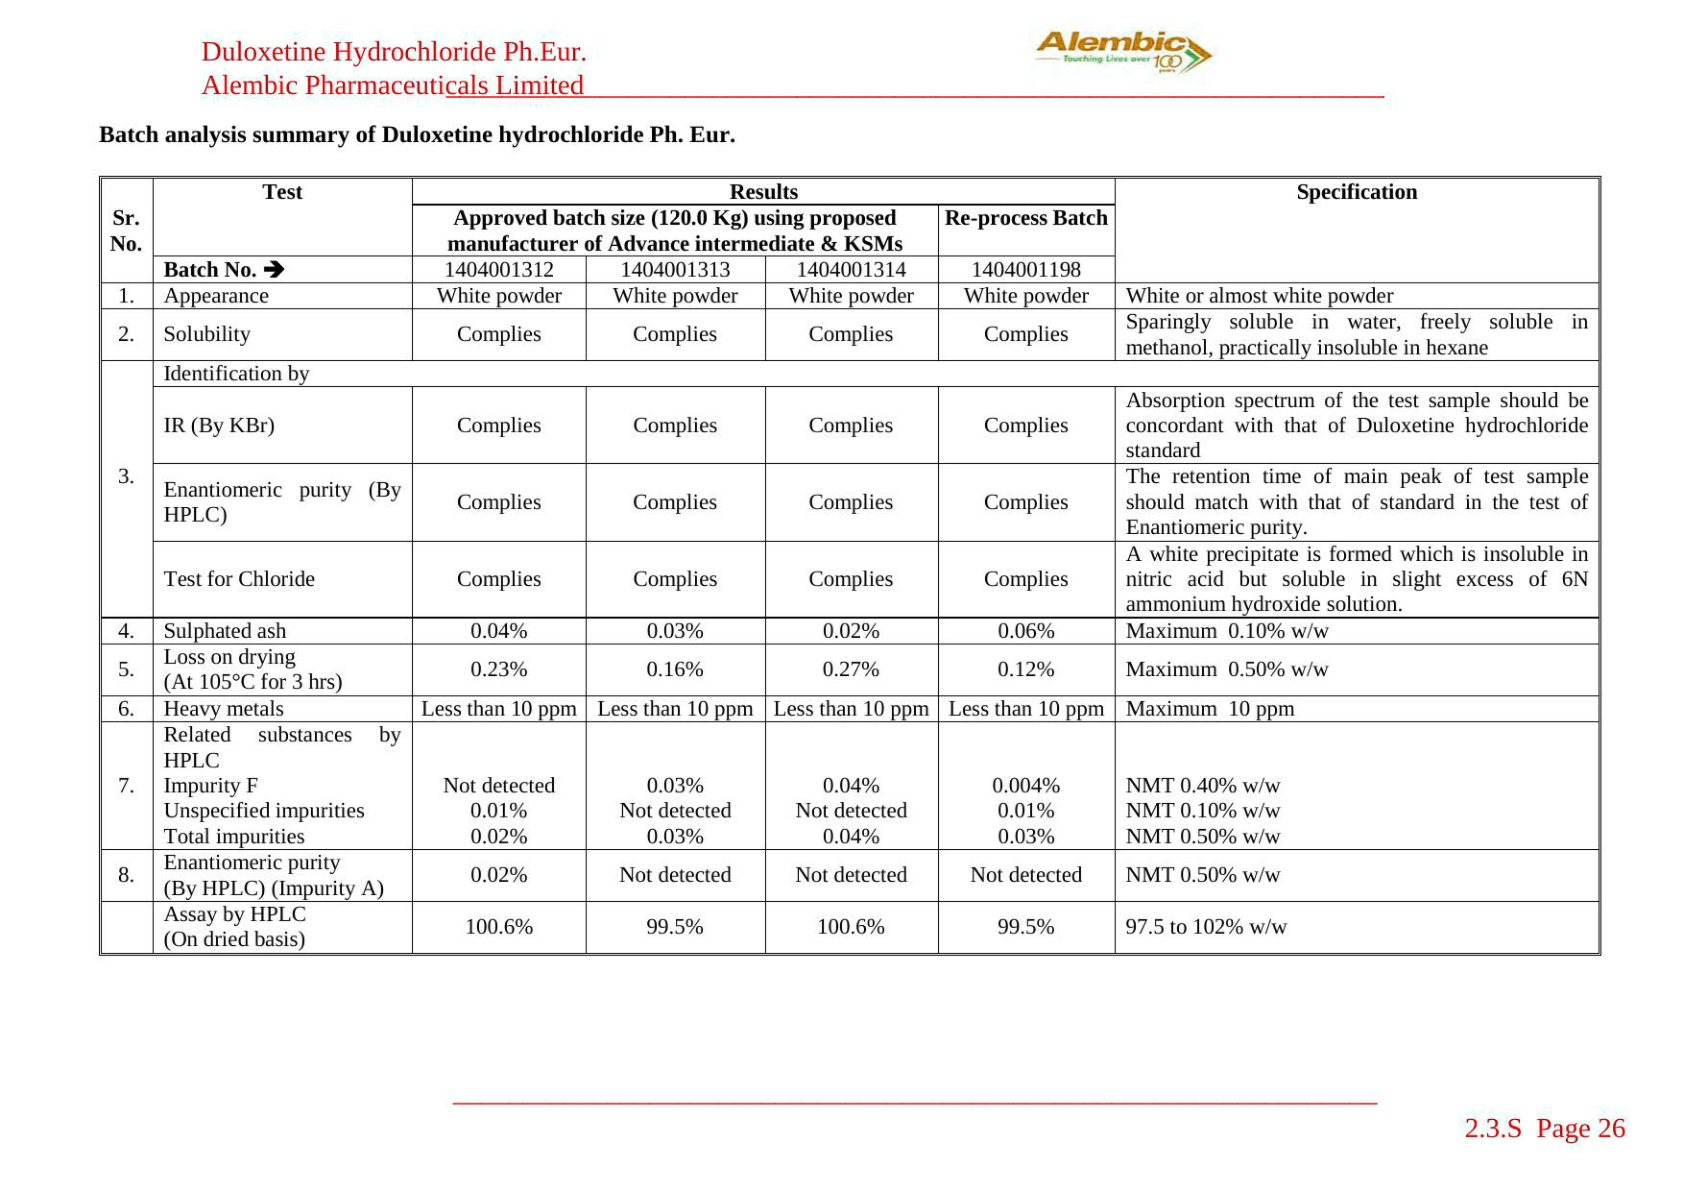merged_cells: (98, 175, 1601, 957)
